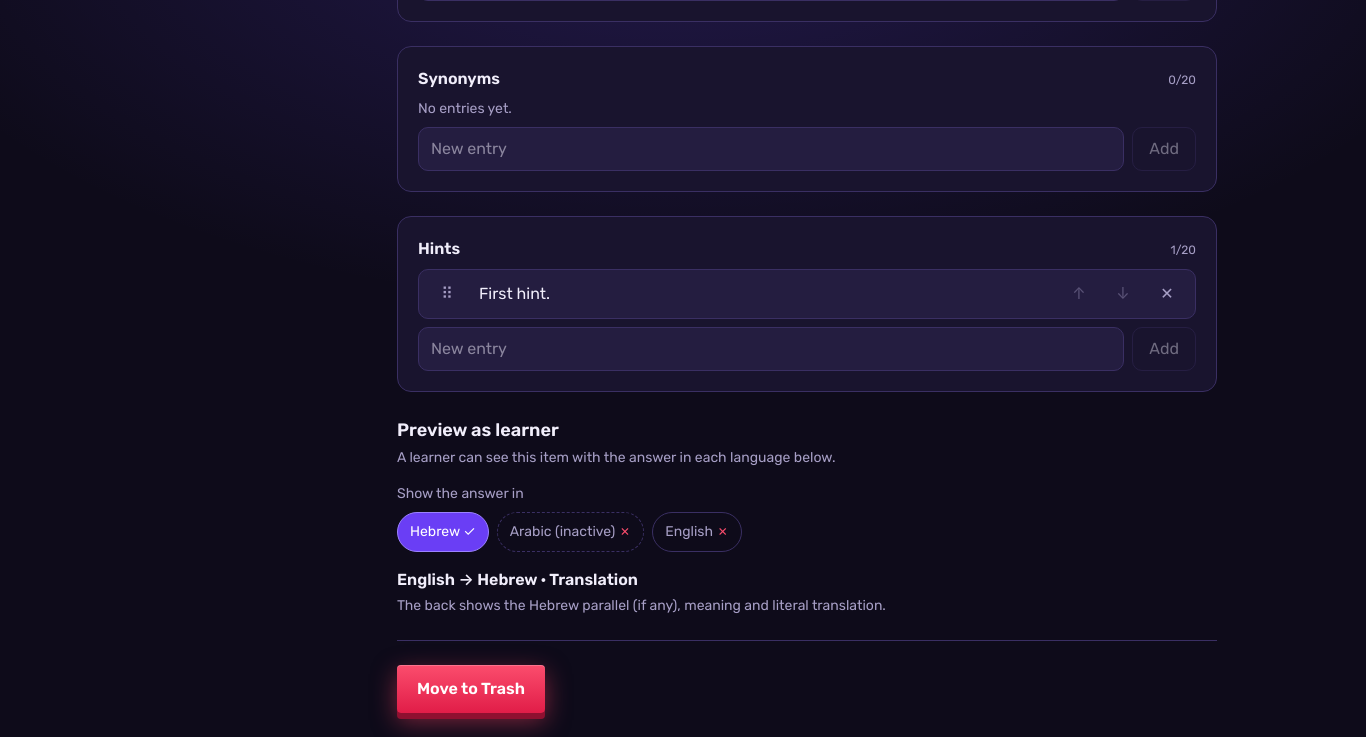
Test: AdminApp › editor: an inactive language gets its own marked block and preview button (D-027)
(page scrolled)
Click the button with aria-label "Arabic, not shown yet, inactive". click: (570, 532)
box: [497,512,644,552]
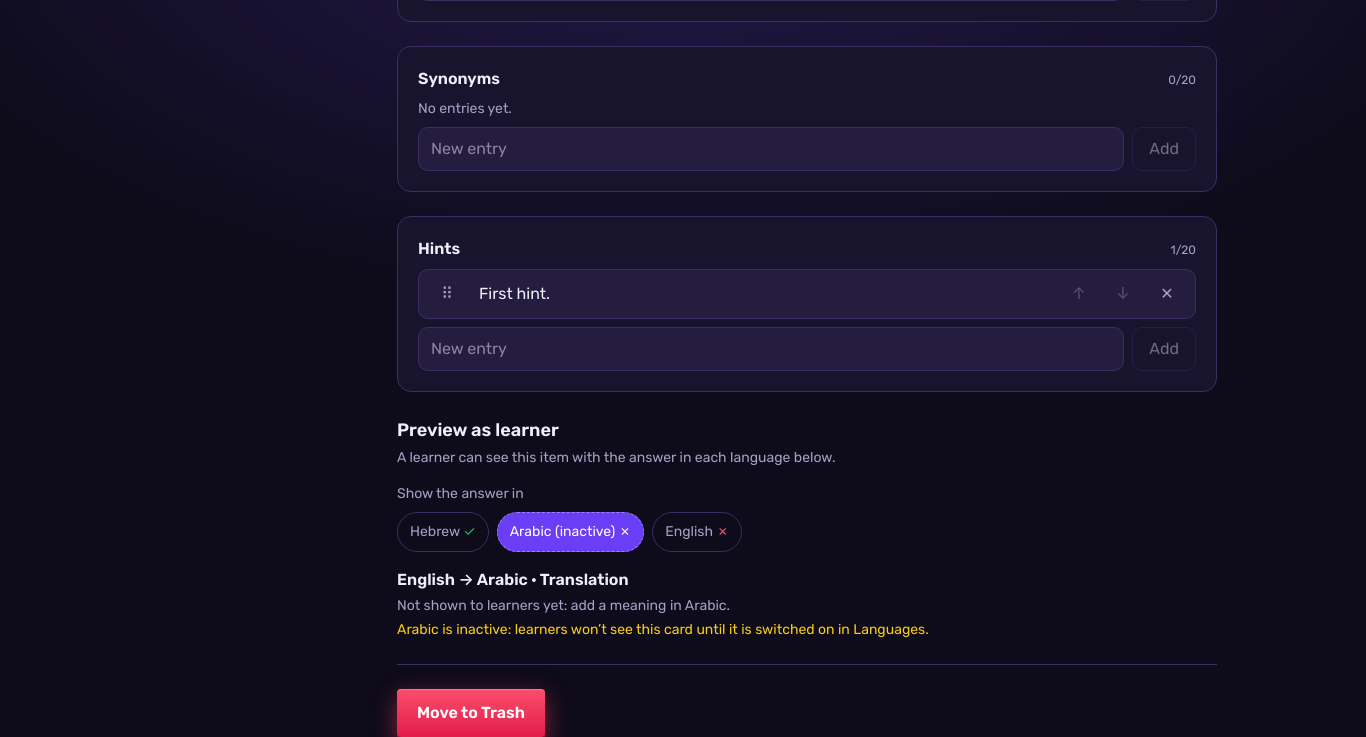
Now the heading "English → Arabic · Translation" is shown, box [397,570,628,589]
Now the text "Not shown to learners yet: add a meaning in Arabic." is shown, box [397,597,730,614]
Now the text "Arabic is inactive: learners won’t see this card" is shown, box [397,621,929,638]
